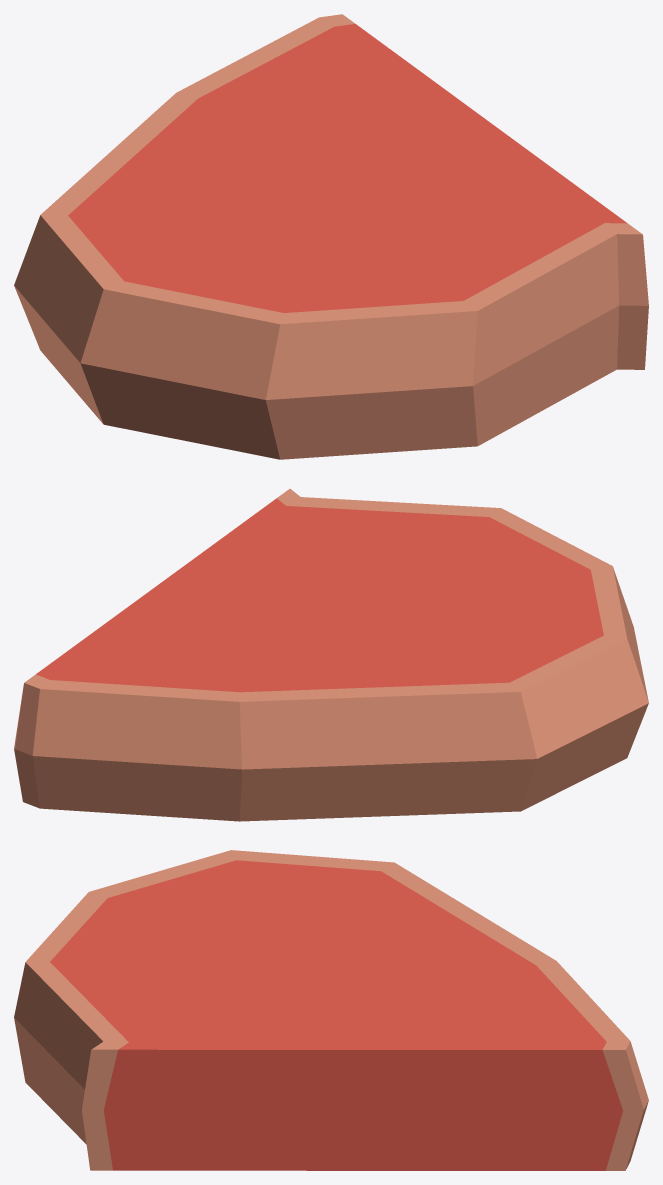
File: MeatRight.fbx
The picture shows the model from 3 angles, top to bottom: view 1: azimuth 30°, elevation 25°; view 2: azimuth 150°, elevation 25°; view 3: azimuth 270°, elevation 25°; orthographic projection. The views are drawn at different scales.
Visible parts, largest first — view 1: Куб.002; view 2: Куб.002; view 3: Куб.002.
Boxes of the visible parts, box(x1,y1,x2,y2) form: Куб.002: box(14, 14, 648, 459); Куб.002: box(14, 488, 648, 821); Куб.002: box(14, 850, 648, 1170).
Bounding box in the file's own units: 376 × 100 × 478.
